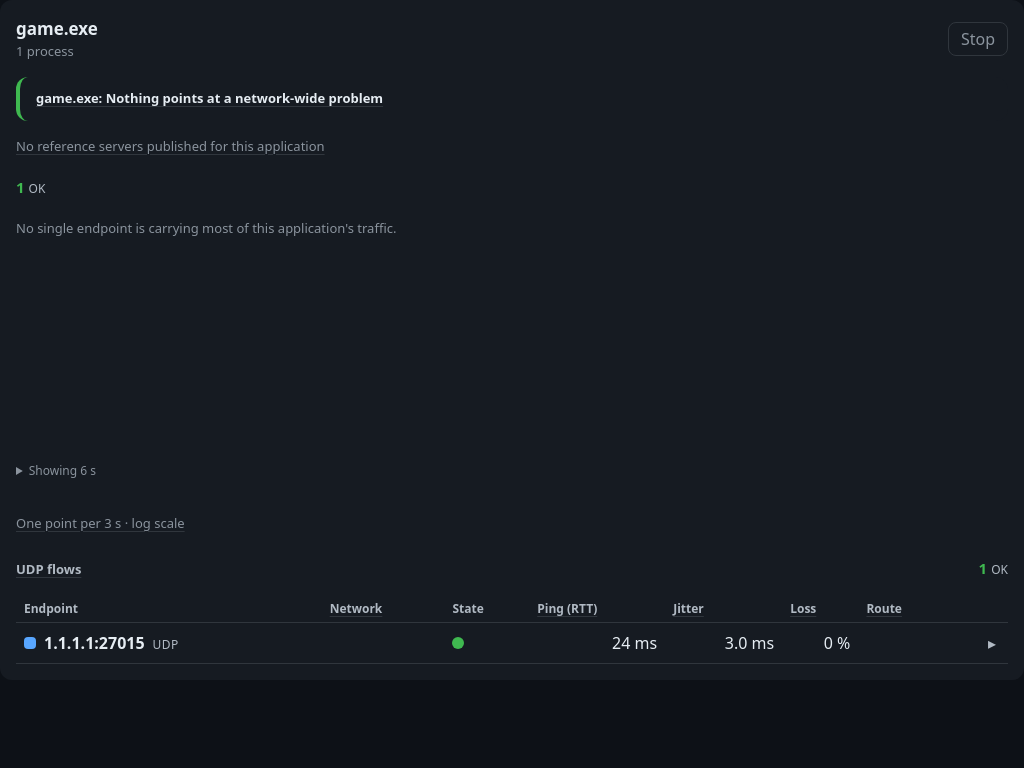
Test case: AppCard › explains a group heading rather than captioning it on the page
Click the button with aria-label "What UDP flows means".
click(49, 570)  # box x1=16 y1=560 x2=81 y2=580
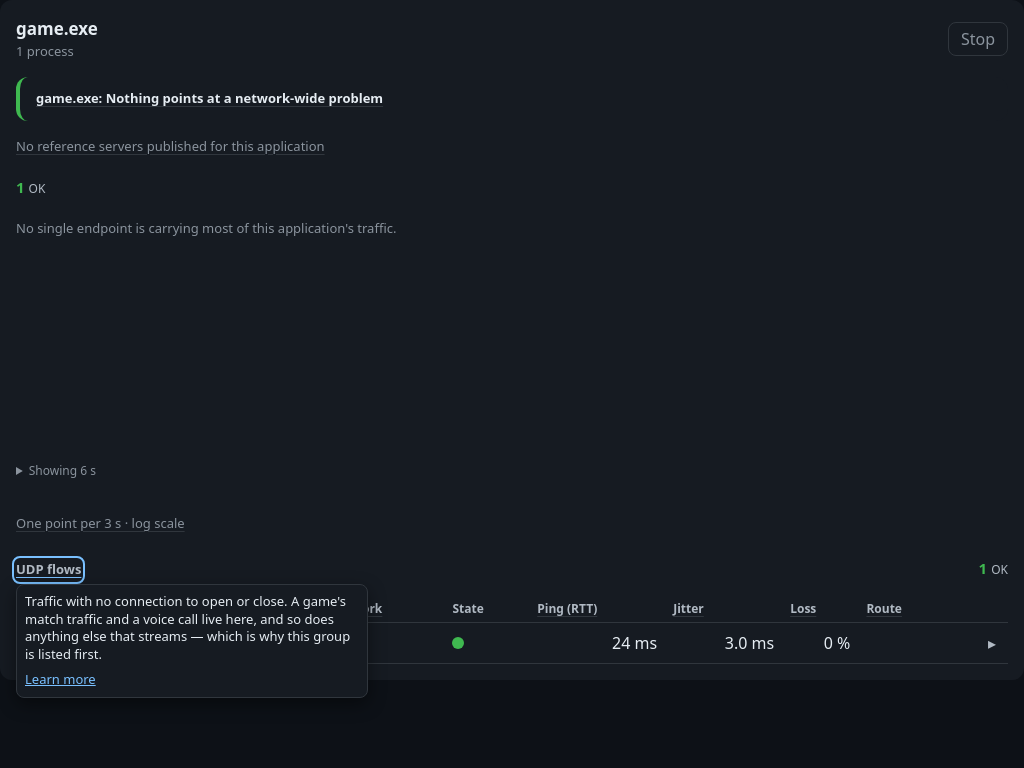
Now the text "no connection to open or close" is shown, box x1=25 y1=592 x2=350 y2=663
